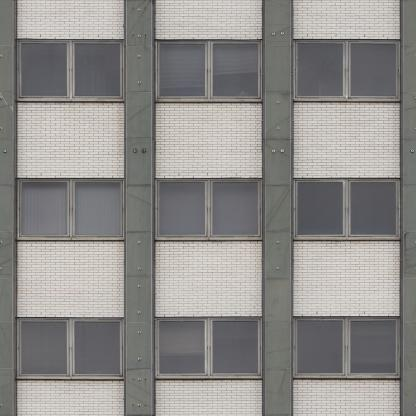Building Outline: (0, 1, 416, 416)
Facade: (0, 1, 416, 416)
Floor: (0, 276, 416, 402), (0, 0, 416, 124), (0, 138, 416, 262)
Floor Slab: (0, 402, 416, 416), (0, 124, 416, 138), (0, 262, 416, 276)
Pillar: (126, 0, 152, 416), (265, 0, 291, 416), (0, 0, 13, 416), (404, 0, 416, 416)
Window: (156, 318, 262, 377), (156, 178, 262, 237), (294, 318, 399, 377), (18, 318, 123, 377), (294, 178, 399, 237), (18, 178, 123, 237), (156, 40, 262, 98), (294, 40, 399, 98), (18, 40, 123, 98)
